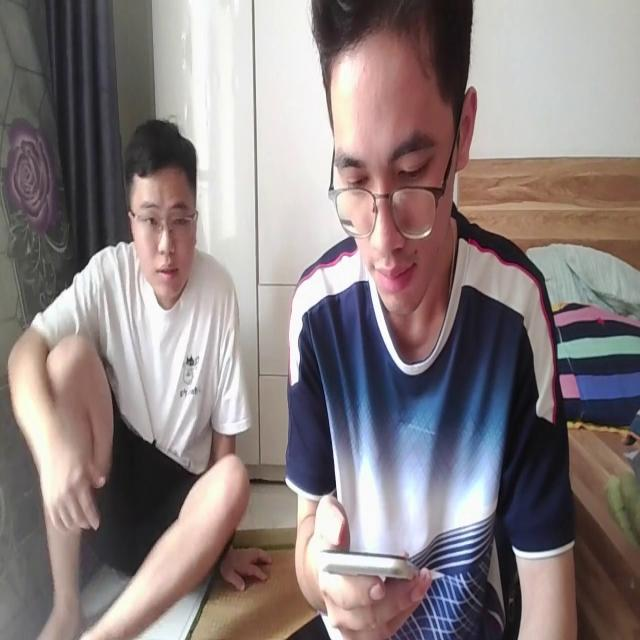extra_person: (6, 110, 266, 640)
phone: (310, 532, 418, 588)
student: (287, 13, 577, 640)
